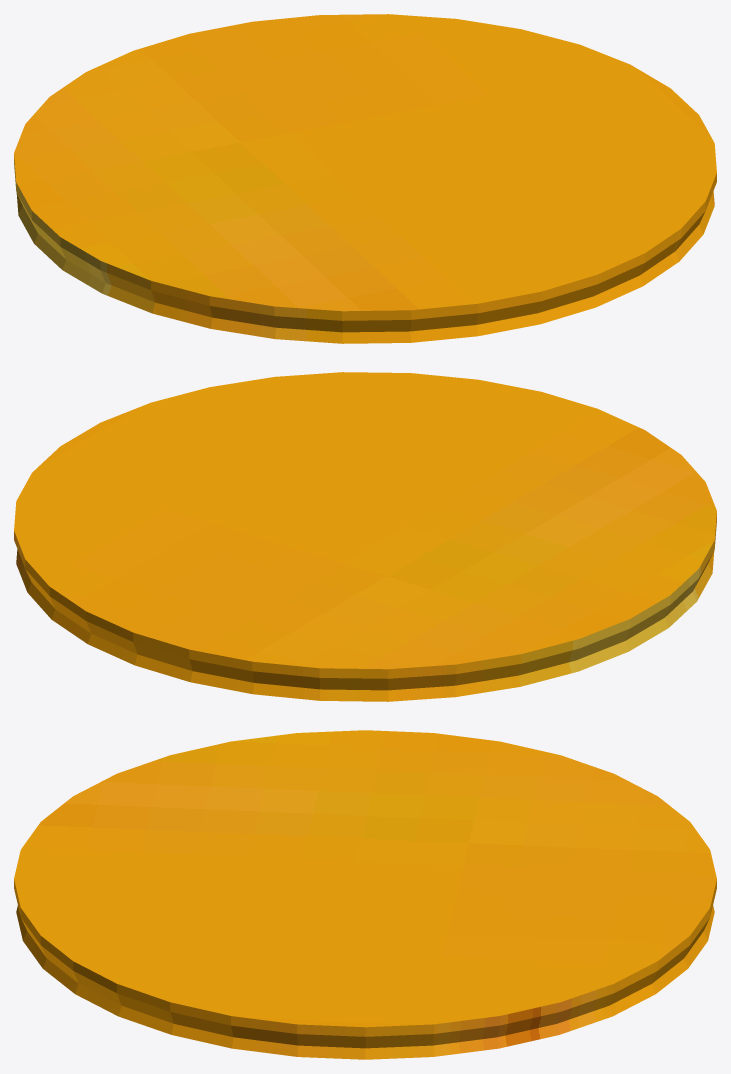
Rendered from pizza.glb.
3 views of the same model, one above another, from view 1: azimuth 30°, elevation 25°; view 2: azimuth 150°, elevation 25°; view 3: azimuth 270°, elevation 25° (orthographic).
Parts seen in each view (by area): view 1: Circle; view 2: Circle; view 3: Circle.
Boxes of the visible parts, x1=… form: Circle: x1=14, y1=14, x2=716, y2=343; Circle: x1=14, y1=372, x2=716, y2=701; Circle: x1=14, y1=730, x2=716, y2=1059.
Bounding box in the file's own units: 2 × 0.1259 × 2.
1 material, 1 textured.
